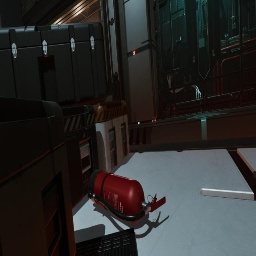FireExtinguisher ]: (88, 169, 166, 224)
